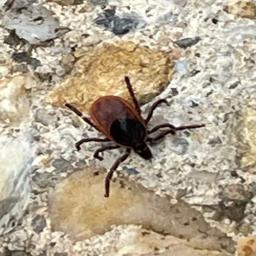Ixodes scapularis: (55, 111, 182, 213)
